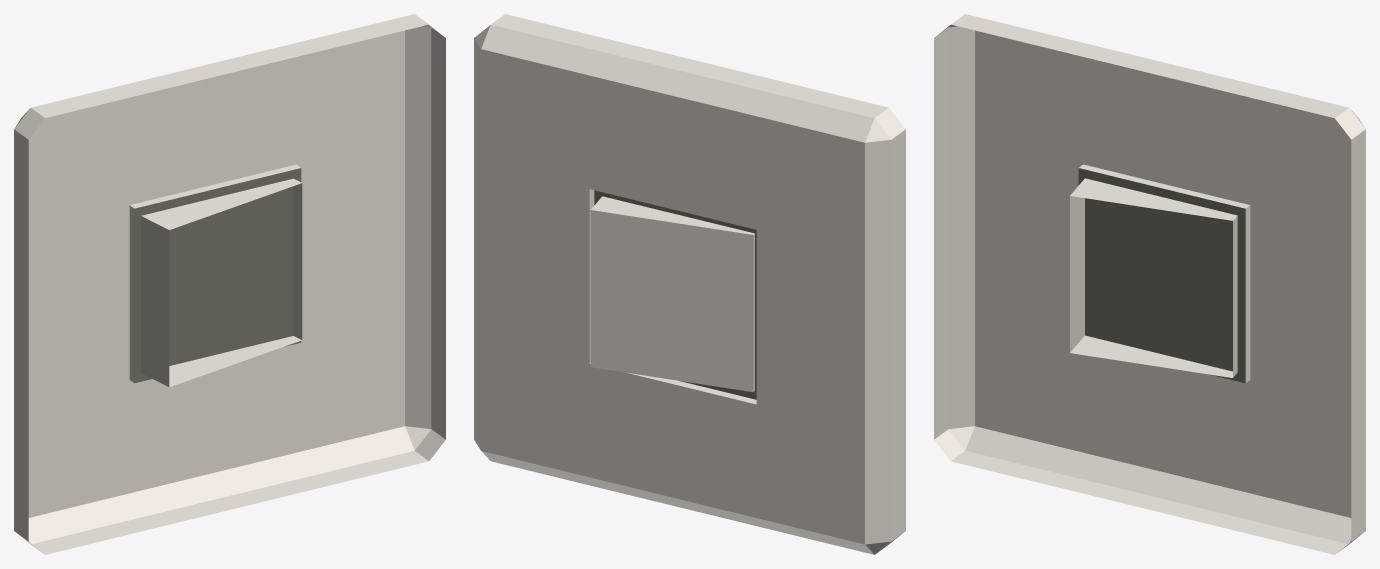
The model's file is light_switch_single.glb.
3 renders of one model, left to right at view 1: azimuth 30°, elevation 25°; view 2: azimuth 150°, elevation 25°; view 3: azimuth 330°, elevation 25°, orthographic.
Parts seen in each view (by area): view 1: light_switch_single; view 2: light_switch_single; view 3: light_switch_single.
Part boxes in pixels (x1,y1,x2,y2): light_switch_single: (14,14,445,554); light_switch_single: (474,14,905,554); light_switch_single: (934,14,1365,554).
Size of the model in its own units: 0.05 by 0.05 by 0.00805.
Materials: 1 (1 with a texture image).
